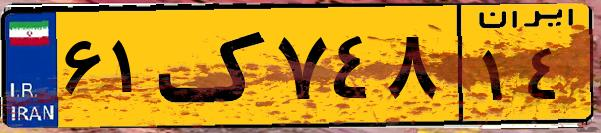1: (475, 38, 525, 113), (110, 28, 158, 98)
4: (330, 28, 385, 110), (525, 38, 570, 115)
6: (57, 26, 110, 100)
7: (270, 28, 330, 110)
8: (385, 28, 445, 110)
ک: (158, 12, 270, 120)
